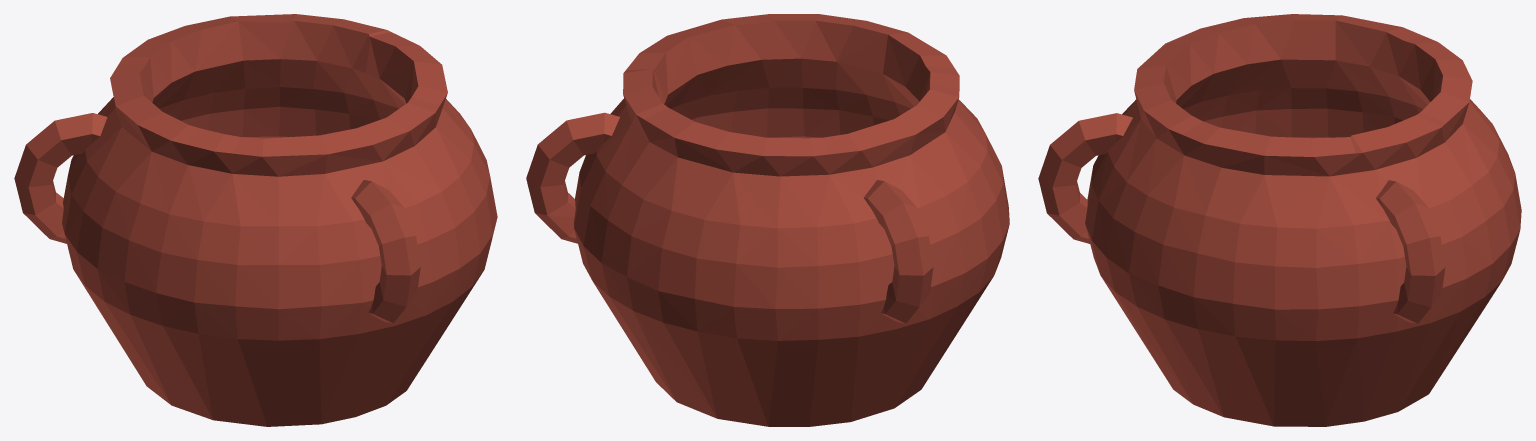
The model's file is Pottery 3_2b.fbx.
The picture shows the model from 3 angles, left to right: view 1: azimuth 30°, elevation 25°; view 2: azimuth 150°, elevation 25°; view 3: azimuth 270°, elevation 25°; orthographic projection.
Visible parts, largest first — view 1: Pottery 3_2b.001, Pottery 3_2b.005, Pottery 3_2b, Pottery 3_2b.006, Pottery 3_2b.004, Pottery 3_2b.003, Pottery 3_2b.002; view 2: Pottery 3_2b.004, Pottery 3_2b.005, Pottery 3_2b, Pottery 3_2b.001, Pottery 3_2b.003, Pottery 3_2b.002, Pottery 3_2b.006; view 3: Pottery 3_2b.002, Pottery 3_2b.003, Pottery 3_2b.005, Pottery 3_2b.001, Pottery 3_2b, Pottery 3_2b.004, Pottery 3_2b.006.
Part boxes in pixels (<box>): Pottery 3_2b.001: <box>232,97,480,338</box>; Pottery 3_2b.005: <box>14,64,200,378</box>; Pottery 3_2b: <box>104,136,484,426</box>; Pottery 3_2b.006: <box>156,128,319,378</box>; Pottery 3_2b.004: <box>118,14,284,138</box>; Pottery 3_2b.003: <box>279,14,398,137</box>; Pottery 3_2b.002: <box>365,32,497,268</box>; Pottery 3_2b.004: <box>601,107,830,340</box>; Pottery 3_2b.005: <box>816,84,1009,378</box>; Pottery 3_2b: <box>601,136,969,426</box>; Pottery 3_2b.001: <box>751,14,953,138</box>; Pottery 3_2b.003: <box>526,69,667,320</box>; Pottery 3_2b.002: <box>610,16,769,137</box>; Pottery 3_2b.006: <box>919,66,1009,220</box>; Pottery 3_2b.002: <box>1129,121,1360,385</box>; Pottery 3_2b.003: <box>1350,112,1492,375</box>; Pottery 3_2b.005: <box>1221,14,1427,138</box>; Pottery 3_2b.001: <box>1038,34,1213,274</box>; Pottery 3_2b: <box>1100,257,1501,426</box>; Pottery 3_2b.004: <box>1399,36,1521,280</box>; Pottery 3_2b.006: <box>1181,22,1246,127</box>.
Size of the model in its own units: 76.29 by 53.26 by 80.32.
